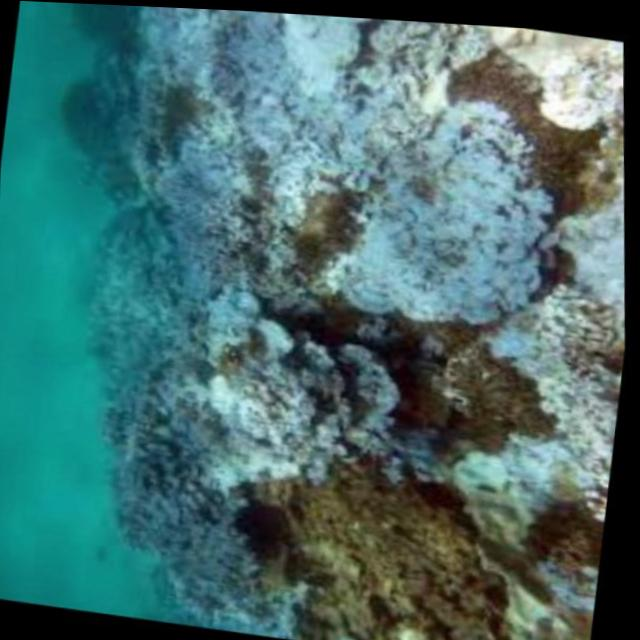Dead Coral: (169, 309, 414, 527)
